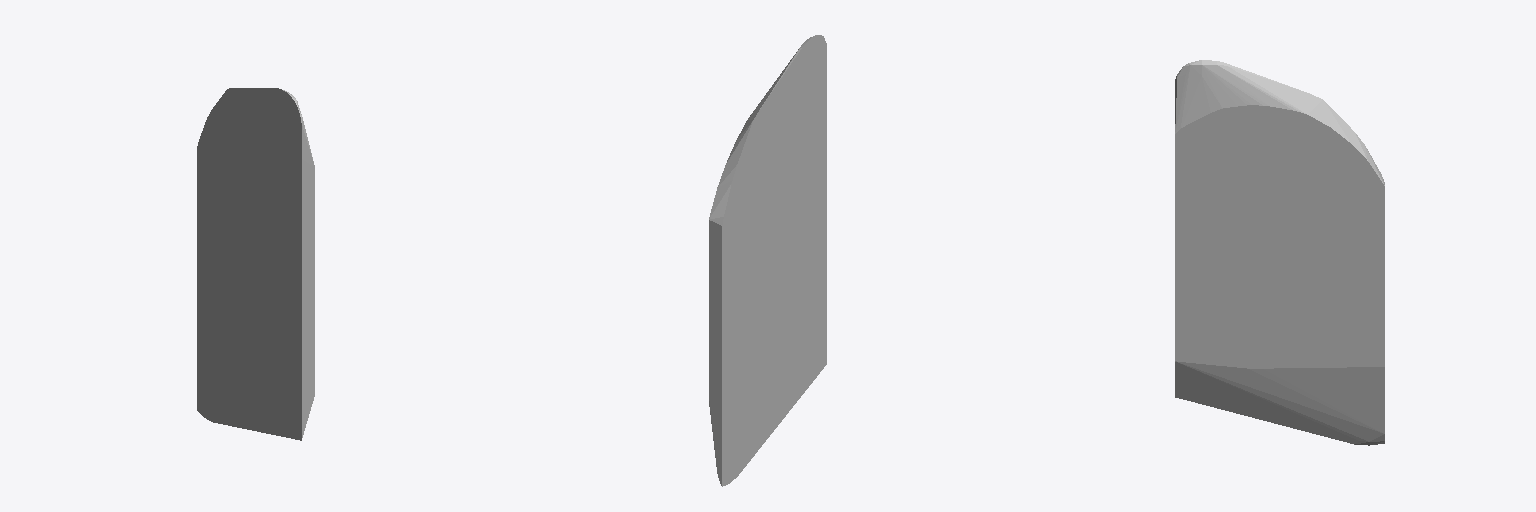
Rendered from weight_4_collision_14.obj.
3 renders of one model, left to right at view 1: azimuth 30°, elevation 25°; view 2: azimuth 150°, elevation 25°; view 3: azimuth 270°, elevation 25°, orthographic.
Bounding box in the file's own units: 0.0136 × 0.3683 × 0.1815.